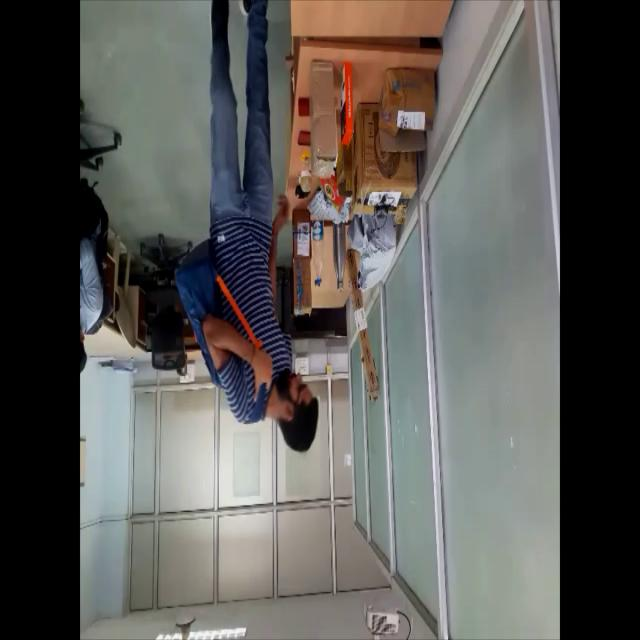normal: (168, 0, 320, 457)
